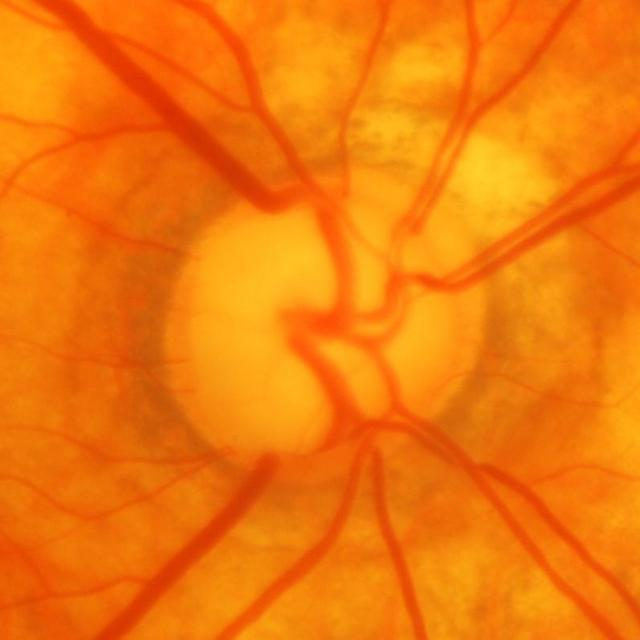OC: (195, 216, 447, 425)
OD: (163, 180, 481, 466)
